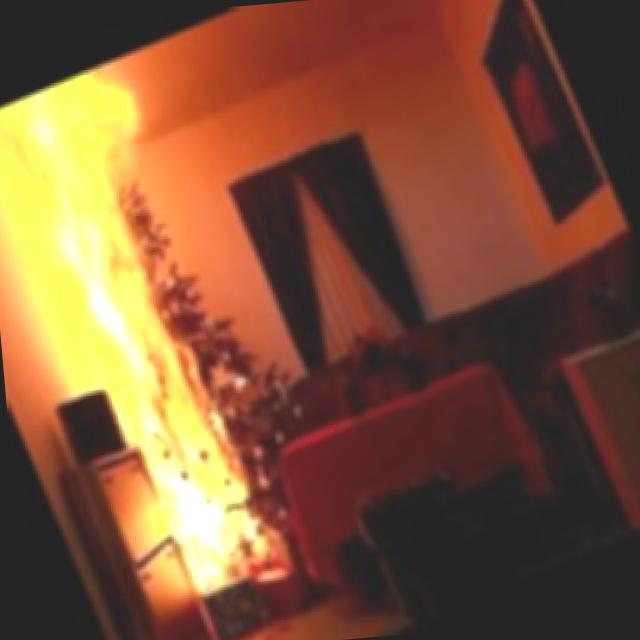fire: (0, 41, 347, 640)
